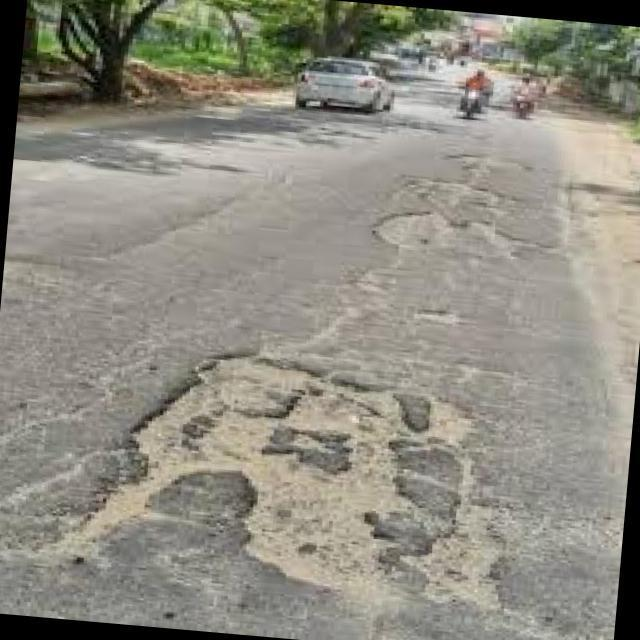Pothole: (225, 530, 447, 611), (241, 382, 353, 509), (129, 328, 229, 433), (420, 398, 475, 448)
